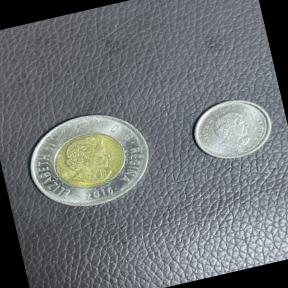Canada-10cent-B: (182, 86, 282, 174)
Canada-2Dollar-B: (14, 98, 164, 223)
